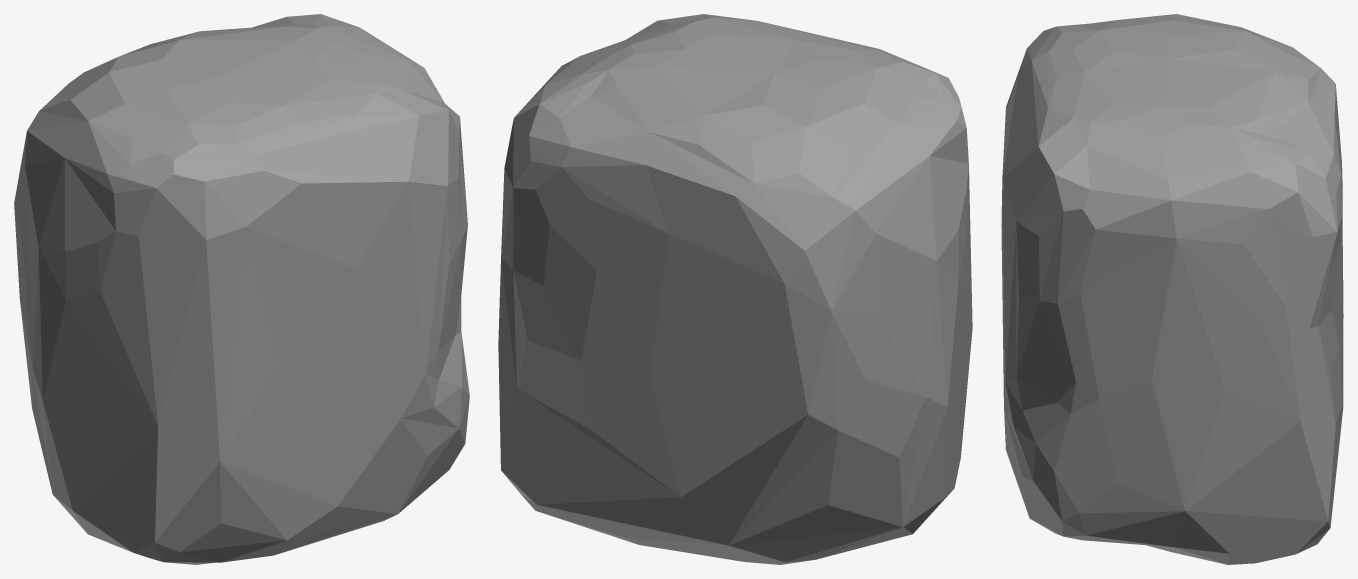
File: Rock_028.fbx
The picture shows the model from 3 angles, left to right: view 1: azimuth 30°, elevation 25°; view 2: azimuth 150°, elevation 25°; view 3: azimuth 270°, elevation 25°; orthographic projection. The views are drawn at different scales.
Parts seen in each view (by area): view 1: Rock_028; view 2: Rock_028; view 3: Rock_028.
Boxes of the visible parts, box(x1,y1,x2,y2) form: Rock_028: box(14, 14, 469, 564); Rock_028: box(498, 14, 972, 564); Rock_028: box(1001, 14, 1343, 564).
Size of the model in its own units: 274 by 209 by 296.
1 material, 1 textured.
